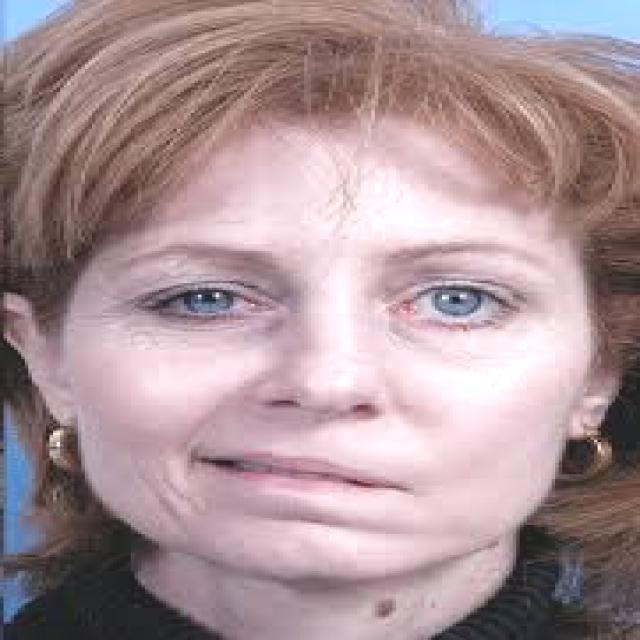stroke_face: (0, 45, 602, 579)
